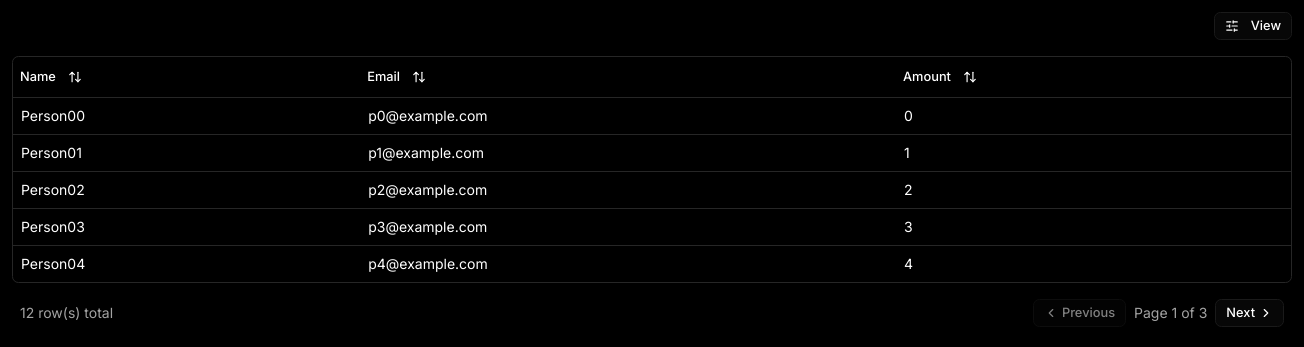
DataTable › paginates and advances with the Next control
Expected: the text "Person00" is shown, [13, 97, 360, 134]
Step 1. Click the button with aria-label "next page" → [1250, 312], box [1215, 298, 1284, 326]
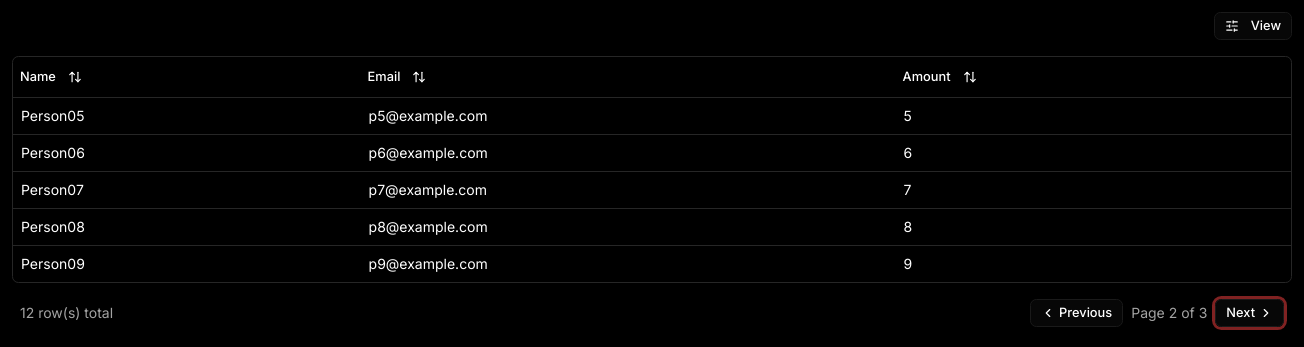
Expected: the text "Person05" is shown, [13, 97, 361, 134]
Expected: the text "Person00" is gone
